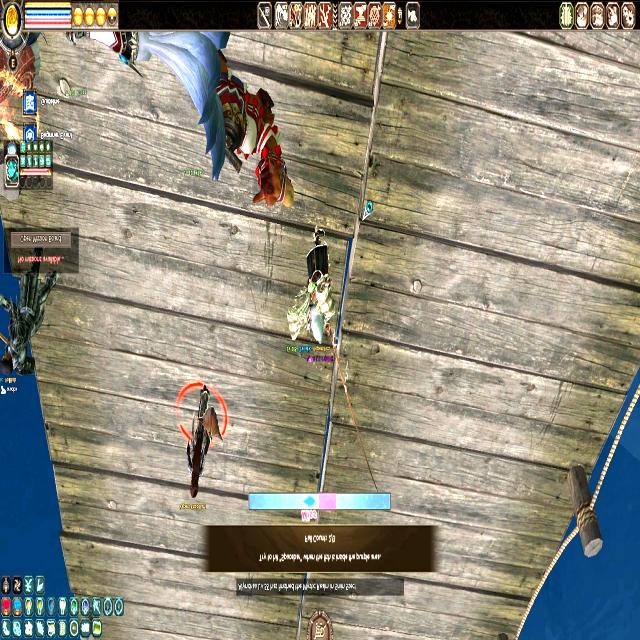fishes: (303, 494, 316, 508)
